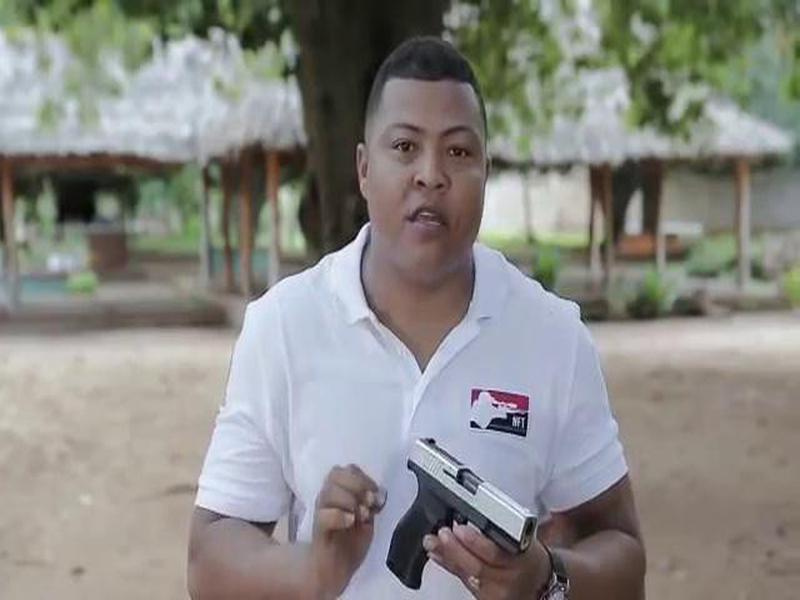Pistola: (383, 430, 540, 594)
